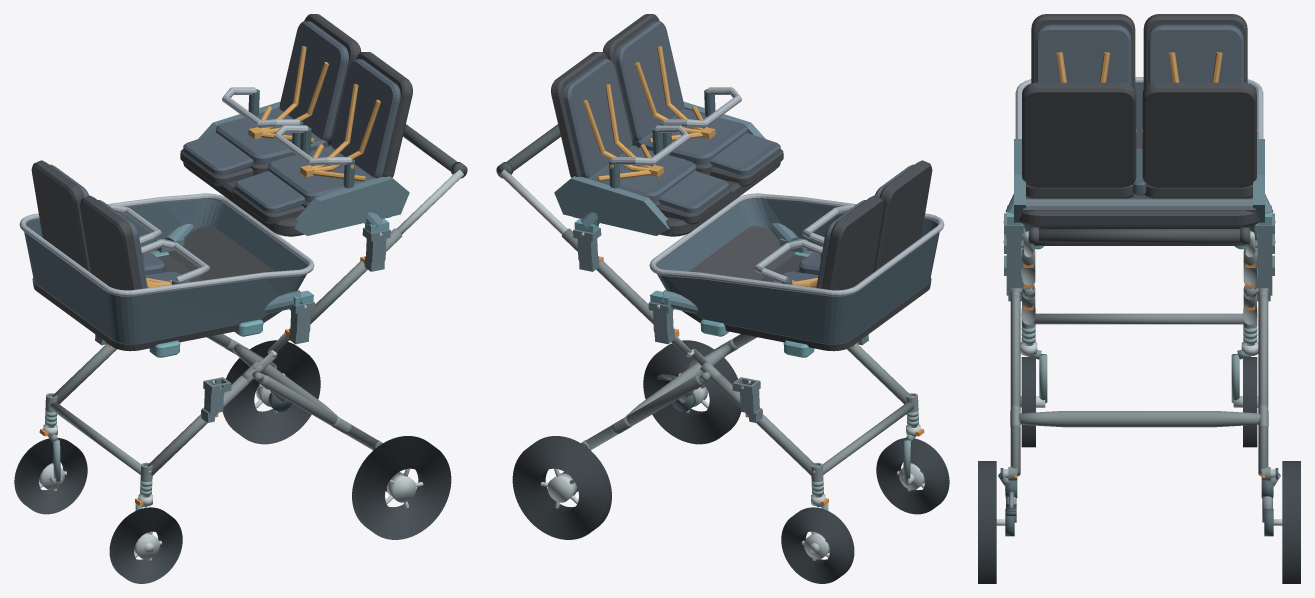
The model's file is D33_w650_state1_wheel_M.glb.
3 views of the same model, side by side, from view 1: azimuth 30°, elevation 25°; view 2: azimuth 150°, elevation 25°; view 3: azimuth 270°, elevation 25° (orthographic). The views are drawn at different scales.
Visible parts, largest first — view 1: D33_Lower, D33_Upper, RL_tire.008, RR_tire.008, FL_tire.008, FR_tire.008, V46_rear_leg_-1.009, main_lower_-1.009, D33_Lower_Mount_M, front_fixed_round_tube.008, main_upper_-1.009, V46_rearbar.009 (+7 smaller); view 2: D33_Lower, D33_Upper, RR_tire.008, RL_tire.008, FR_tire.008, FL_tire.008, V46_rear_leg_1.009, main_lower_1.009, D33_Lower_Mount_M, front_fixed_round_tube.008, main_upper_1.009, V46_rearbar.009 (+7 smaller); view 3: D33_Upper, D33_Lower, V46_rearbar.009, round_handle.008, front_fixed_round_tube.008, RL_tire.008, RR_tire.008, V46_rear_leg_1.009, V46_rear_leg_-1.009, FL_tire.008, FR_tire.008, Universal_Cabin_Receiver_H_1 (+3 smaller).
Part boxes in pixels (x1,y1,x2,y2): D33_Lower: (19, 160, 314, 357); D33_Upper: (180, 14, 412, 236); RL_tire.008: (352, 436, 451, 539); RR_tire.008: (223, 340, 320, 444); FL_tire.008: (109, 507, 182, 583); FR_tire.008: (14, 438, 87, 514); V46_rear_leg_-1.009: (260, 375, 378, 449); main_lower_-1.009: (147, 375, 252, 475); D33_Lower_Mount_M: (156, 223, 313, 313); front_fixed_round_tube.008: (49, 402, 140, 474); main_upper_-1.009: (310, 228, 402, 324); V46_rearbar.009: (232, 344, 339, 417); D33_Lower: (649, 160, 944, 357); D33_Upper: (551, 14, 783, 236); RR_tire.008: (512, 436, 611, 539); RL_tire.008: (643, 340, 740, 444); FR_tire.008: (781, 507, 854, 583); FL_tire.008: (876, 438, 949, 514); V46_rear_leg_1.009: (585, 375, 703, 449); main_lower_1.009: (711, 375, 816, 475); D33_Lower_Mount_M: (650, 223, 807, 313); front_fixed_round_tube.008: (823, 402, 914, 474); main_upper_1.009: (561, 228, 653, 324); V46_rearbar.009: (624, 344, 731, 417); D33_Upper: (1014, 82, 1264, 227); D33_Lower: (1015, 14, 1263, 249); V46_rearbar.009: (1018, 411, 1260, 427); round_handle.008: (1028, 229, 1250, 242); front_fixed_round_tube.008: (1034, 313, 1244, 324); RL_tire.008: (978, 461, 996, 583); RR_tire.008: (1282, 461, 1300, 583); V46_rear_leg_1.009: (1258, 295, 1268, 476); V46_rear_leg_-1.009: (1010, 295, 1020, 476); FL_tire.008: (1021, 357, 1035, 447); FR_tire.008: (1243, 357, 1257, 447); Universal_Cabin_Receiver_H_1: (1255, 213, 1274, 268).
Bounding box in the file's own units: 1.17 × 1.37 × 0.7871.
